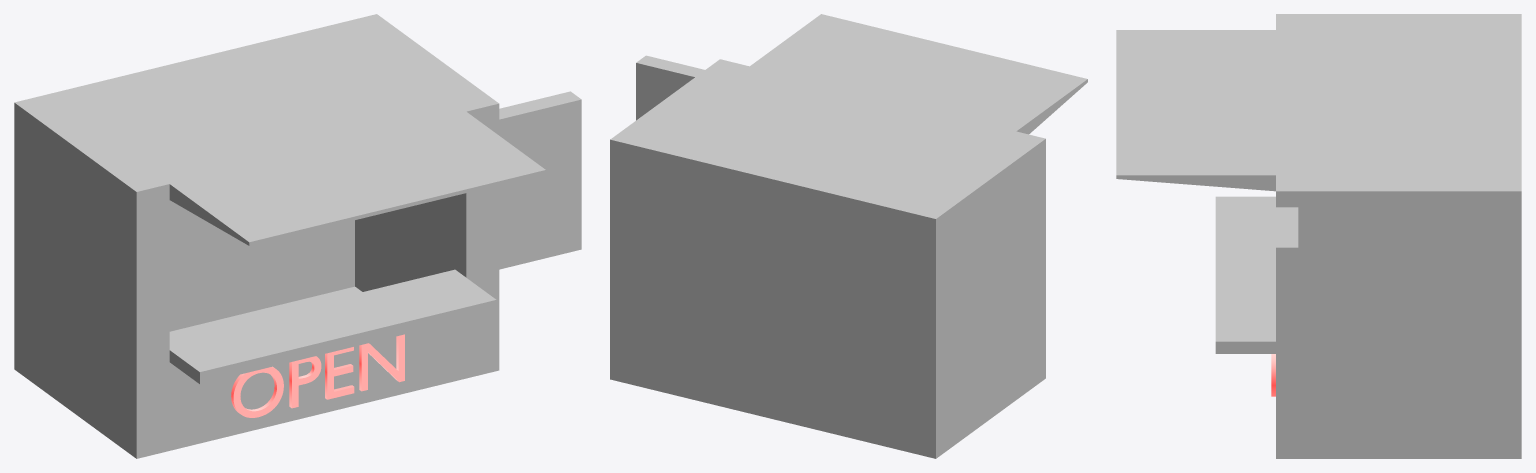
File: shop.glb
3 renders of one model, left to right at view 1: azimuth 30°, elevation 25°; view 2: azimuth 150°, elevation 25°; view 3: azimuth 270°, elevation 25°, orthographic. The views are drawn at different scales.
Visible parts, largest first — view 1: Cube, Text; view 2: Cube; view 3: Cube.
Part boxes in pixels (x1,y1,x2,y2): Cube: (14, 14, 581, 458); Text: (231, 334, 404, 417); Cube: (610, 14, 1087, 458); Cube: (1116, 14, 1521, 458).
Bounding box in the file's own units: 6.47 × 3.71 × 5.09.
